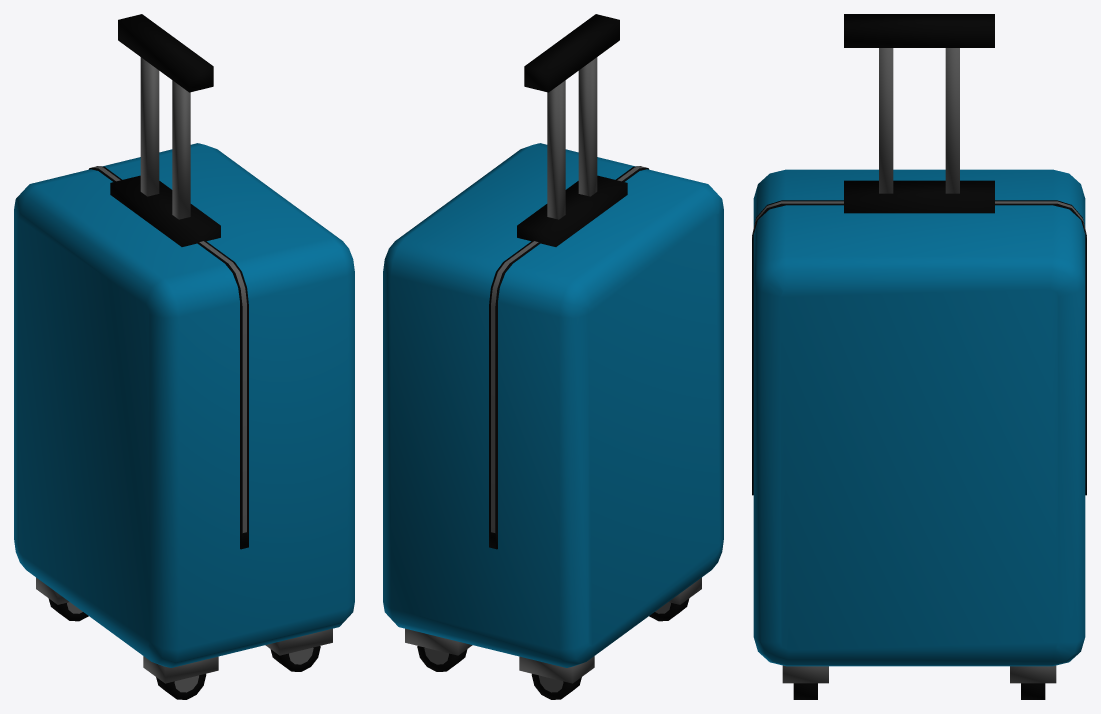
The model's file is official_luggage.glb.
The picture shows the model from 3 angles, left to right: view 1: azimuth 30°, elevation 25°; view 2: azimuth 150°, elevation 25°; view 3: azimuth 270°, elevation 25°; orthographic projection. The views are drawn at different scales.
Parts seen in each view (by area): view 1: Default Luggage Body, Default Luggage Handles, Default Luggage Bars, Default Luggage Wheels, Default Luggage Zipper; view 2: Default Luggage Body, Default Luggage Handles, Default Luggage Bars, Default Luggage Wheels, Default Luggage Zipper; view 3: Default Luggage Body, Default Luggage Handles, Default Luggage Bars, Default Luggage Wheels, Default Luggage Zipper.
Part boxes in pixels (left/top/right/bottom): Default Luggage Body: left=14, top=143, right=354, bottom=667; Default Luggage Handles: left=110, top=14, right=220, bottom=246; Default Luggage Bars: left=140, top=57, right=190, bottom=219; Default Luggage Wheels: left=36, top=577, right=332, bottom=699; Default Luggage Zipper: left=89, top=166, right=248, bottom=549; Default Luggage Body: left=383, top=143, right=723, bottom=667; Default Luggage Handles: left=517, top=14, right=627, bottom=246; Default Luggage Bars: left=547, top=57, right=597, bottom=219; Default Luggage Wheels: left=405, top=577, right=701, bottom=699; Default Luggage Zipper: left=489, top=166, right=648, bottom=549; Default Luggage Body: left=753, top=169, right=1085, bottom=666; Default Luggage Handles: left=844, top=14, right=994, bottom=213; Default Luggage Bars: left=879, top=48, right=959, bottom=193; Default Luggage Wheels: left=782, top=665, right=1056, bottom=699; Default Luggage Zipper: left=752, top=200, right=1086, bottom=495.
Size of the model in its own units: 1.48 by 4.25 by 2.02.
